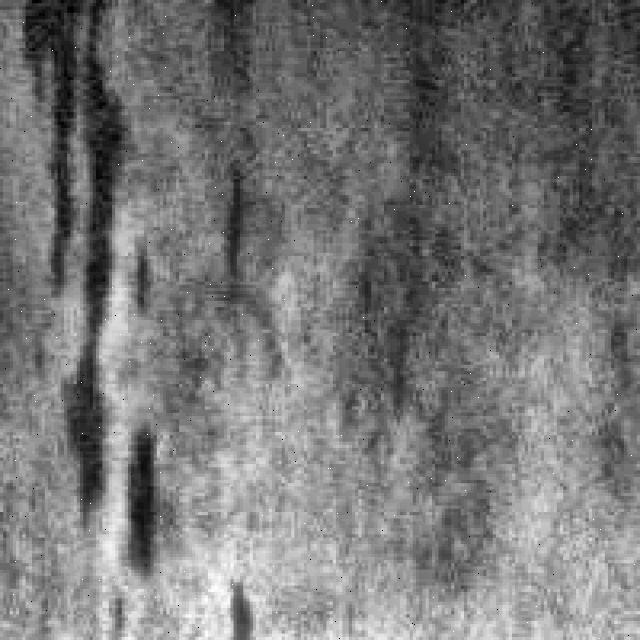Patches: (35, 0, 131, 531), (119, 407, 182, 596), (218, 164, 259, 278)
